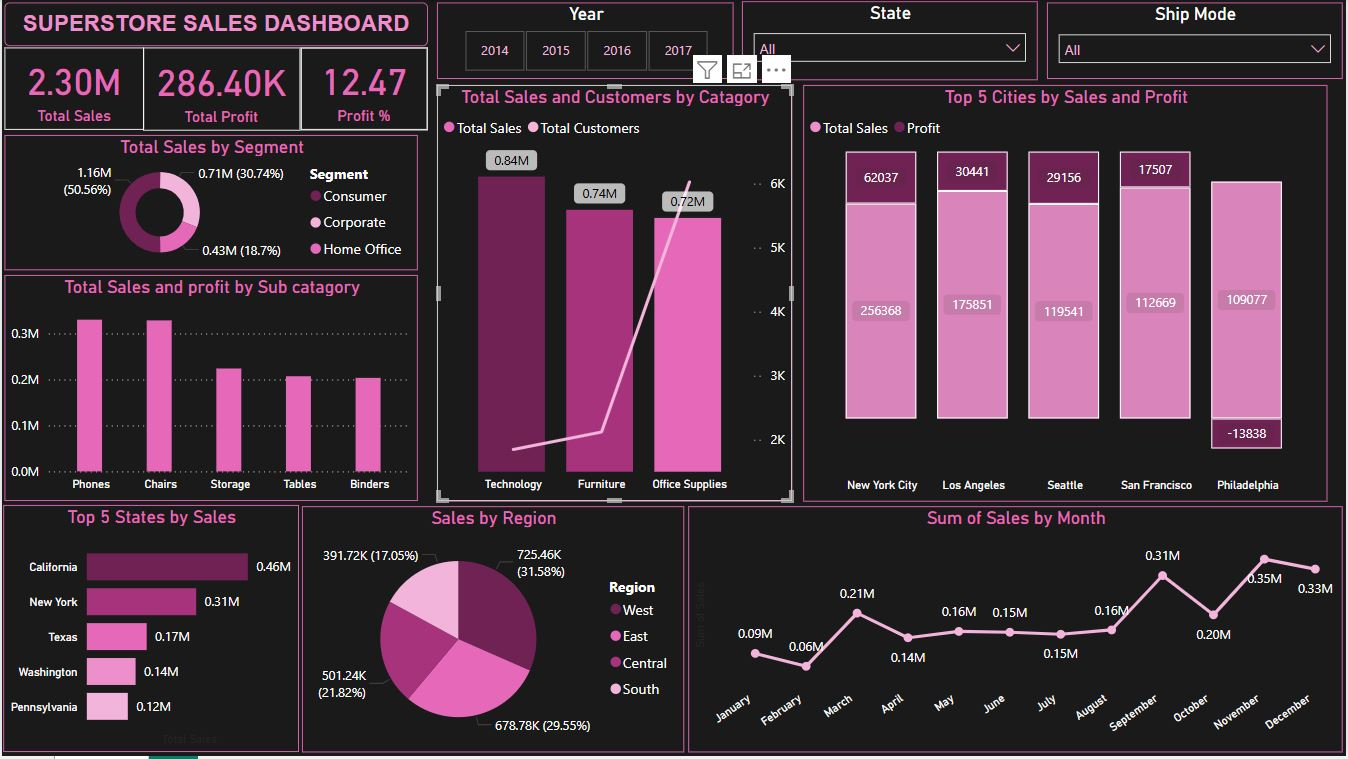

The page's visual inventory and layout, read from the dashboard file:
{"tool":"powerbi","page":{"name":"Page 1","canvas":[1280,720],"ordinal":0},"visuals":[{"type":"lineChart","fields":{"Y":["Sum(super store sales week 1.Sales)"],"Category":["super store sales week 1.Order Date.Variation.Date Hierarchy.Month"]},"box":[653.2,481.6,623,234.6],"z":0},{"type":"slicer","title":"Year","fields":{"Values":["super store sales week 1.Order Date.Variation.Date Hierarchy.Year"]},"box":[414.4,2.7,282.7,72.7],"z":1000},{"type":"card","fields":{"Values":["Sum(super store sales week 1.Sales)"]},"box":[0,39.8,133.1,78.2],"z":2000},{"type":"card","fields":{"Values":["Sum(super store sales week 1.Profit)"]},"box":[133.1,39.8,149.6,79.6],"z":3000},{"type":"card","fields":{"Values":["super store sales week 1.Profit divided by Sales"]},"box":[282.7,39.8,120.8,78.2],"z":4000},{"type":"pieChart","title":"Sales by Region","fields":{"Category":["super store sales week 1.Region"],"Y":["Sum(super store sales week 1.Sales)"]},"box":[285.4,481.6,363.6,234.6],"z":5000},{"type":"lineClusteredColumnComboChart","title":"Total Sales and Customers by Catagory","fields":{"Category":["super store sales week 1.Category"],"Y":["Sum(super store sales week 1.Sales)"],"Y2":["CountNonNull(super store sales week 1.Customer ID)"]},"box":[414.4,81,326.6,396.6],"z":6000},{"type":"ribbonChart","title":"Total Sales and profit by Sub catagory","fields":{"Category":["super store sales week 1.Sub-Category"],"Y":["Sum(super store sales week 1.Sales)"]},"box":[2.7,262.1,393.8,215.4],"z":7000},{"type":"slicer","title":"Ship Mode","fields":{"Values":["super store sales week 1.Ship Mode"]},"box":[994.9,2.7,281.3,72.7],"z":8000},{"type":"slicer","title":"State","fields":{"Values":["super store sales week 1.State"]},"box":[705.3,1.4,281.3,75.5],"z":9000},{"type":"clusteredBarChart","title":"Top 5 States by Sales","fields":{"Category":["super store sales week 1.State"],"Y":["Sum(super store sales week 1.Sales)"]},"box":[1.4,481.2,281.3,235],"z":10000},{"type":"textbox","box":[0,0,403.4,43.9],"z":11000},{"type":"donutChart","title":"Total Sales by Segment","fields":{"Category":["super store sales week 1.Segment"],"Y":["Sum(super store sales week 1.Sales)"]},"box":[2.7,129,393.8,129],"z":12000},{"type":"hundredPercentStackedColumnChart","title":"Top 5 Cities by Sales and Profit","fields":{"Category":["super store sales week 1.City"],"Y":["Sum(super store sales week 1.Sales)","Sum(super store sales week 1.Profit)"]},"box":[763,81,499.5,396.6],"z":13000}]}

Visuals, with their boxes in screenshot pixels (x1, y1, x2, y2), scaled from the page's 1280x720 canvas onto the 1348x759 screenshot:
lineChart - Sum(super store sales week 1.Sales) x super store sales week 1.Order Date.Variation.Date Hierarchy.Month: {"left": 688, "top": 508, "right": 1344, "bottom": 755}
"Year" slicer: {"left": 436, "top": 3, "right": 734, "bottom": 79}
card - Sum(super store sales week 1.Sales): {"left": 0, "top": 42, "right": 140, "bottom": 124}
card - Sum(super store sales week 1.Profit): {"left": 140, "top": 42, "right": 298, "bottom": 126}
card - super store sales week 1.Profit divided by Sales: {"left": 298, "top": 42, "right": 425, "bottom": 124}
"Sales by Region" pieChart: {"left": 301, "top": 508, "right": 683, "bottom": 755}
"Total Sales and Customers by Catagory" lineClusteredColumnComboChart: {"left": 436, "top": 85, "right": 780, "bottom": 503}
"Total Sales and profit by Sub catagory" ribbonChart: {"left": 3, "top": 276, "right": 418, "bottom": 503}
"Ship Mode" slicer: {"left": 1048, "top": 3, "right": 1344, "bottom": 79}
"State" slicer: {"left": 743, "top": 1, "right": 1039, "bottom": 81}
"Top 5 States by Sales" clusteredBarChart: {"left": 1, "top": 507, "right": 298, "bottom": 755}
textbox: {"left": 0, "top": 0, "right": 425, "bottom": 46}
"Total Sales by Segment" donutChart: {"left": 3, "top": 136, "right": 418, "bottom": 272}
"Top 5 Cities by Sales and Profit" hundredPercentStackedColumnChart: {"left": 804, "top": 85, "right": 1330, "bottom": 503}
